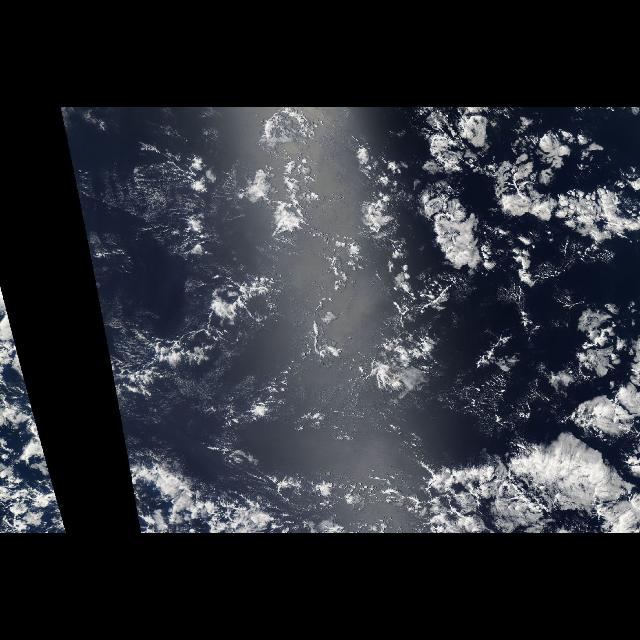Flower: (61, 113, 639, 532), (1, 287, 66, 533)
Sugar: (60, 108, 186, 314)
